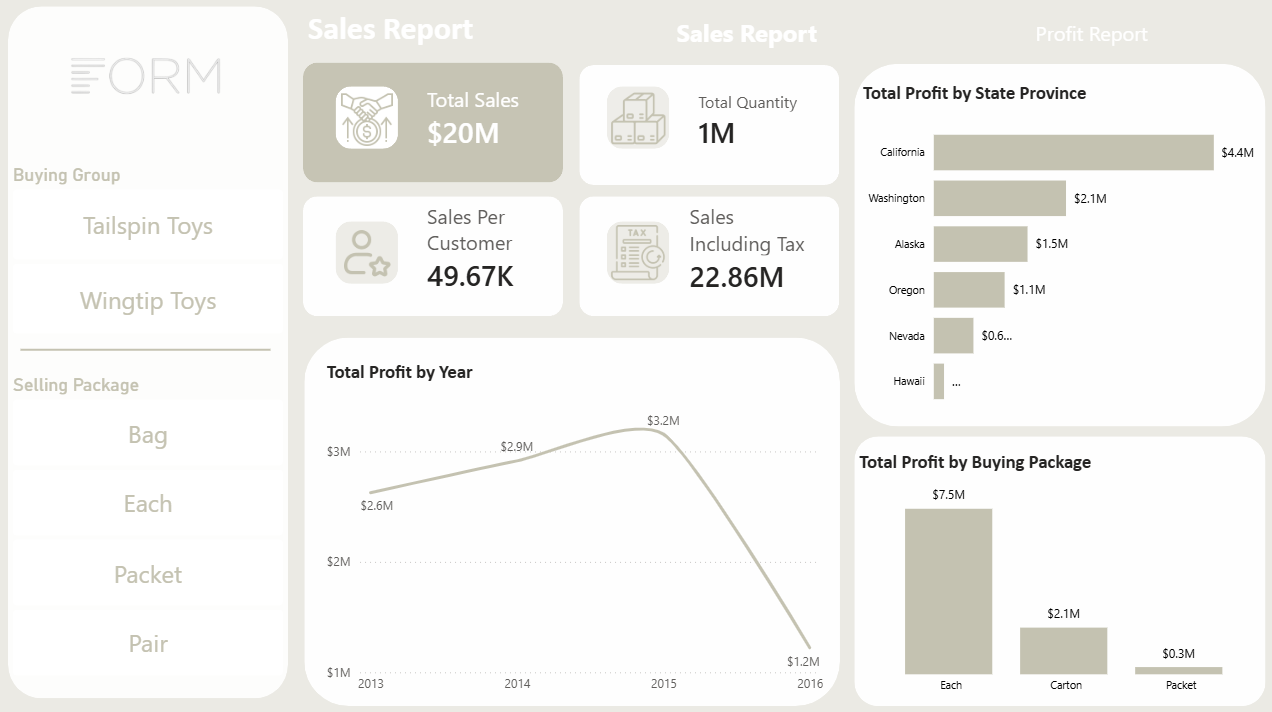

Layout of this report page (visuals, bound fields, positions):
{"tool":"powerbi","page":{"name":"Sales Report","canvas":[1280,720],"ordinal":0},"visuals":[{"type":"shape","box":[10,6.7,280,692.2],"z":0},{"type":"shape","box":[305.7,337.1,535.7,368.6],"z":1000},{"type":"shape","box":[305.5,62.7,260,120],"z":2000},{"type":"shape","box":[305.5,196.4,260,120],"z":3000},{"type":"shape","box":[581.8,196.4,260,120],"z":4000},{"type":"shape","box":[581.8,64.5,260,120],"z":5000},{"type":"shape","box":[855.7,435.7,411.4,270],"z":6000},{"type":"shape","box":[855.7,64.3,411.4,362.9],"z":7000},{"type":"textbox","box":[305,3.3,190,53.3],"z":8000},{"type":"image","box":[0,6.7,295,153.3],"z":9000},{"type":"cardVisual","title":"Total Sales","fields":{"Data":["FactSale.Total Sales"]},"box":[400,58.2,158.2,120.9],"z":10000},{"type":"shape","box":[337.3,86.4,62.7,62.7],"z":11000},{"type":"cardVisual","title":"Total Sales","fields":{"Data":["Sum(FactSale.Quantity)"]},"box":[670.9,58.2,158.2,120.9],"z":12000},{"type":"shape","box":[608.2,86.4,62.7,62.7],"z":13000},{"type":"cardVisual","title":"Total Sales","fields":{"Data":["FactSale.Sales Per Customer"]},"box":[400,190,165.7,132.9],"z":14000},{"type":"shape","box":[337.3,220.9,62.7,62.7],"z":15000},{"type":"cardVisual","title":"Total Sales","fields":{"Data":["Sum(FactSale.Total Including Tax)"]},"box":[663,183,178,140],"z":16000},{"type":"shape","box":[608.2,220.9,62.7,62.7],"z":17000},{"type":"image","box":[607,225,65,55],"z":18000},{"type":"lineChart","title":"Total Profit by Year","fields":{"Category":["DimDate.Date.Variation.Date Hierarchy.Year","DimDate.Date.Variation.Date Hierarchy.Quarter","DimDate.Date.Variation.Date Hierarchy.Month","DimDate.Date.Variation.Date Hierarchy.Day"],"Y":["Sum(FactSale.Profit)"]},"box":[323.8,360,506.2,342.5],"z":19000},{"type":"clusteredColumnChart","title":"Total Profit by Buying Package","fields":{"Y":["Sum(FactSale.Profit)"],"Category":["DimStockItem.Buying Package"]},"box":[855.8,450,424.2,252.5],"z":20000},{"type":"clusteredBarChart","title":"Total Profit by State Province","fields":{"Category":["DimCity.State Province"],"Y":["Sum(FactSale.Profit)"]},"box":[860,81.2,401.2,342.5],"z":21000},{"type":"image","box":[334.2,225,68.3,54.2],"z":22000},{"type":"image","box":[335,92,68,54],"z":23000},{"type":"image","box":[607.5,90.8,65.8,54.2],"z":24000},{"type":"shape","box":[23,206,250,287],"z":25000},{"type":"advancedSlicerVisual","fields":{"Values":["DimCustomer.Buying Group"]},"box":[10,164,280,176],"z":26000},{"type":"advancedSlicerVisual","fields":{"Values":["DimStockItem.Selling Package"]},"box":[10,373.8,280,310],"z":27000},{"type":"pageNavigator","box":[581.4,7.1,680,50],"z":28000}]}

Visuals, with their boxes in screenshot pixels (x1, y1, x2, y2), scaled from the page's 1280x720 canvas onto the 1272x712 screenshot:
shape: [x1=10, y1=7, x2=288, y2=691]
shape: [x1=304, y1=333, x2=836, y2=698]
shape: [x1=304, y1=62, x2=562, y2=181]
shape: [x1=304, y1=194, x2=562, y2=313]
shape: [x1=578, y1=194, x2=837, y2=313]
shape: [x1=578, y1=64, x2=837, y2=182]
shape: [x1=850, y1=431, x2=1259, y2=698]
shape: [x1=850, y1=64, x2=1259, y2=422]
textbox: [x1=303, y1=3, x2=492, y2=56]
image: [x1=0, y1=7, x2=293, y2=158]
"Total Sales" cardVisual: [x1=398, y1=58, x2=555, y2=177]
shape: [x1=335, y1=85, x2=398, y2=147]
"Total Sales" cardVisual: [x1=667, y1=58, x2=824, y2=177]
shape: [x1=604, y1=85, x2=667, y2=147]
"Total Sales" cardVisual: [x1=398, y1=188, x2=562, y2=319]
shape: [x1=335, y1=218, x2=398, y2=280]
"Total Sales" cardVisual: [x1=659, y1=181, x2=836, y2=319]
shape: [x1=604, y1=218, x2=667, y2=280]
image: [x1=603, y1=222, x2=668, y2=277]
"Total Profit by Year" lineChart: [x1=322, y1=356, x2=825, y2=695]
"Total Profit by Buying Package" clusteredColumnChart: [x1=850, y1=445, x2=1271, y2=695]
"Total Profit by State Province" clusteredBarChart: [x1=855, y1=80, x2=1253, y2=419]
image: [x1=332, y1=222, x2=400, y2=276]
image: [x1=333, y1=91, x2=400, y2=144]
image: [x1=604, y1=90, x2=669, y2=143]
shape: [x1=23, y1=204, x2=271, y2=488]
advancedSlicerVisual - DimCustomer.Buying Group: [x1=10, y1=162, x2=288, y2=336]
advancedSlicerVisual - DimStockItem.Selling Package: [x1=10, y1=370, x2=288, y2=676]
pageNavigator: [x1=578, y1=7, x2=1254, y2=56]
